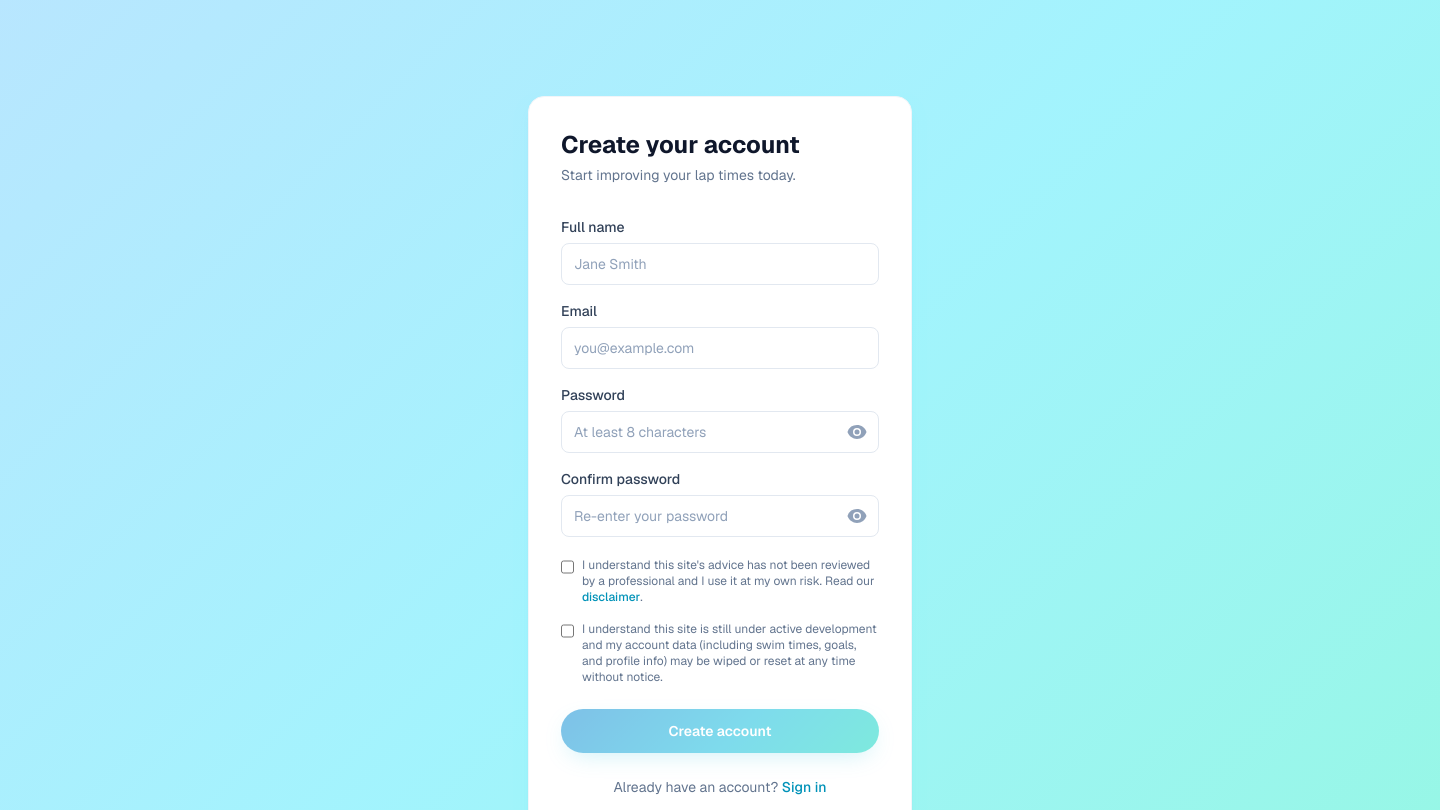
Scenario: SignUpForm › disables the submit button until both acknowledgements are checked
Expected: the button "Create account" is disabled, [561,709,879,753]
Click the checkbox labelled "advice has not been reviewed" at (568, 567), box [561,559,574,575]
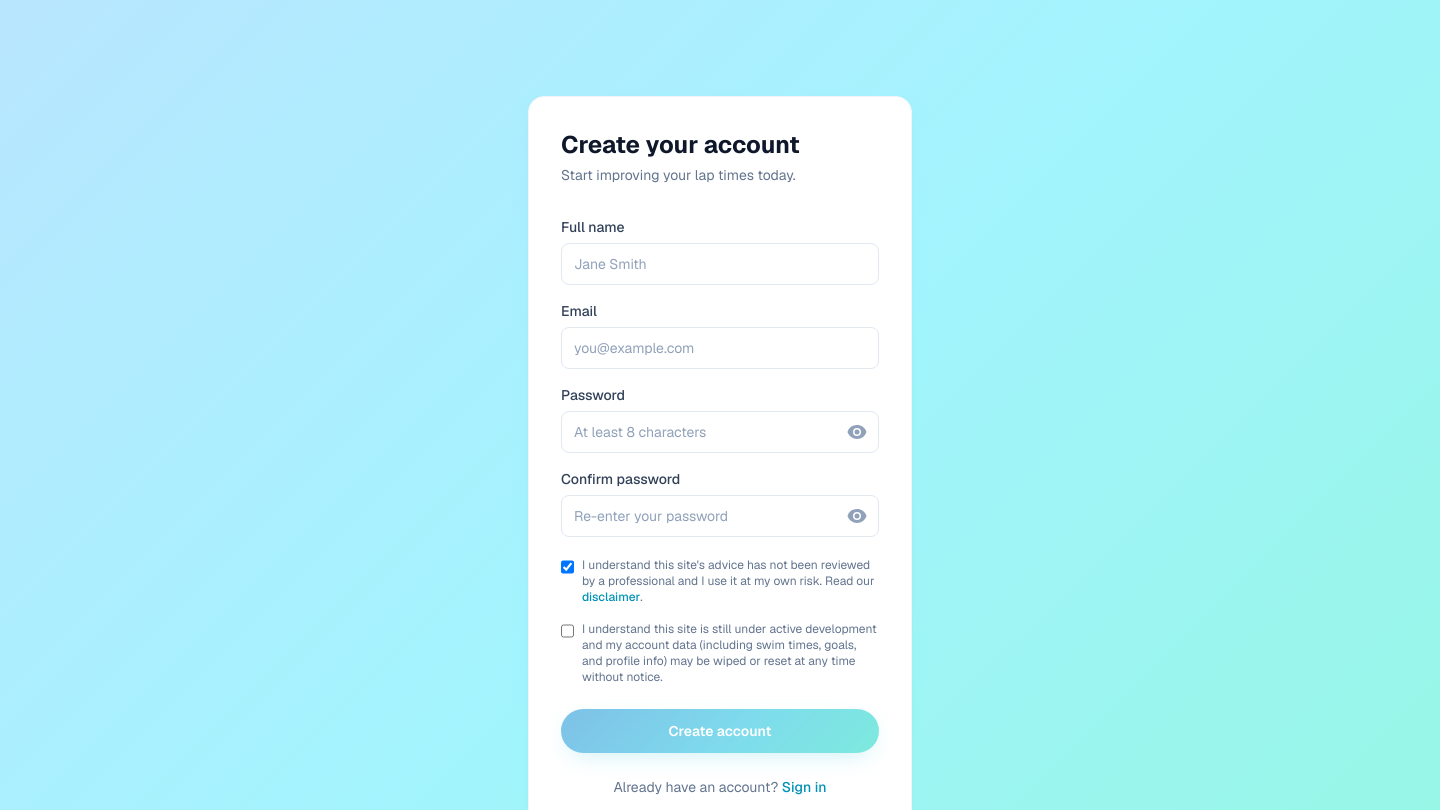
Expected: the button "Create account" is disabled, [561,709,879,753]
Click the checkbox named "wiped or reset" at (568, 631), box [561,623,574,639]
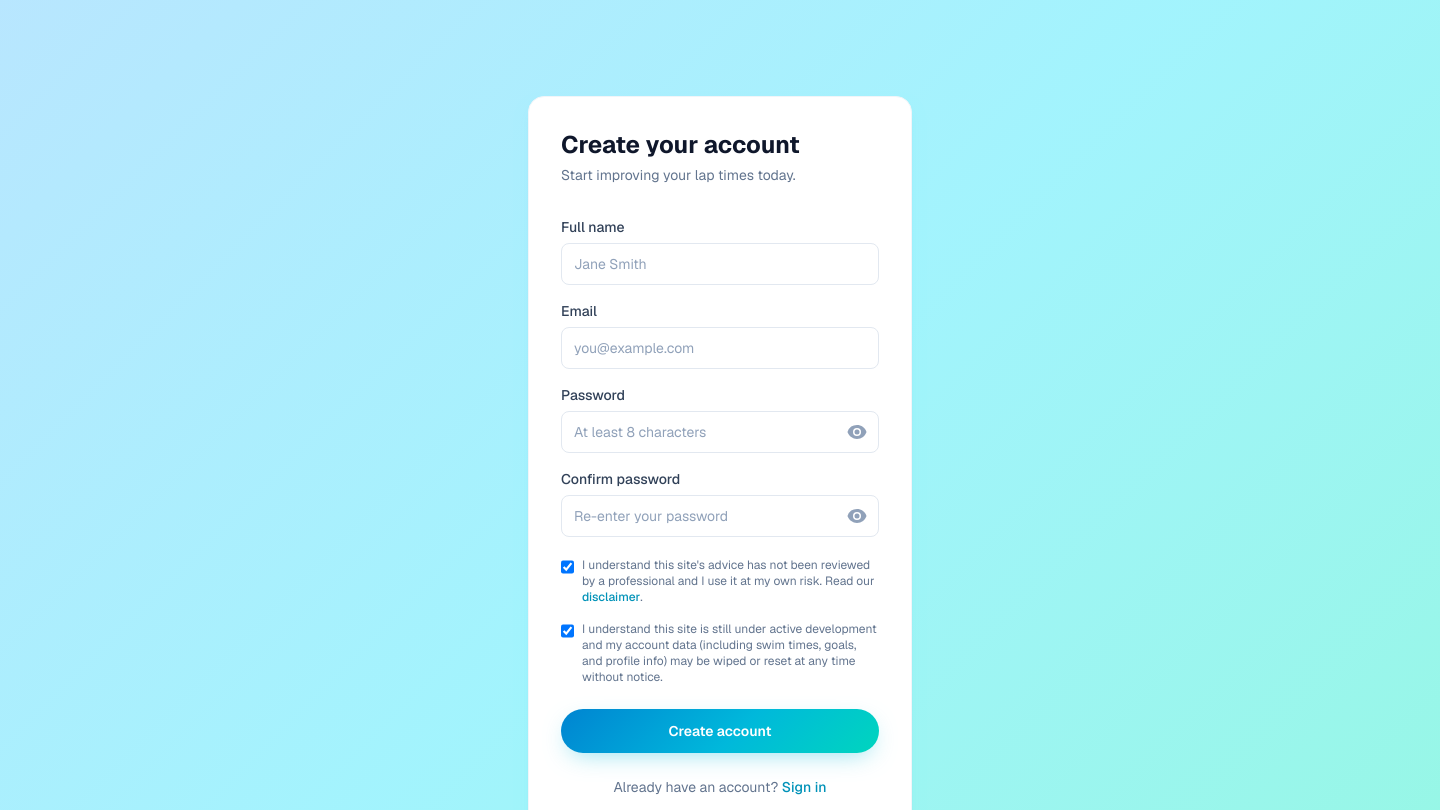
Result: the button "Create account" is enabled at [561,709,879,753]
